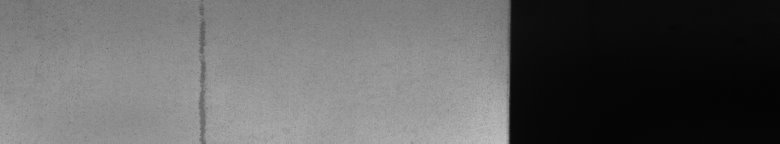hd: (196, 4, 211, 136)
